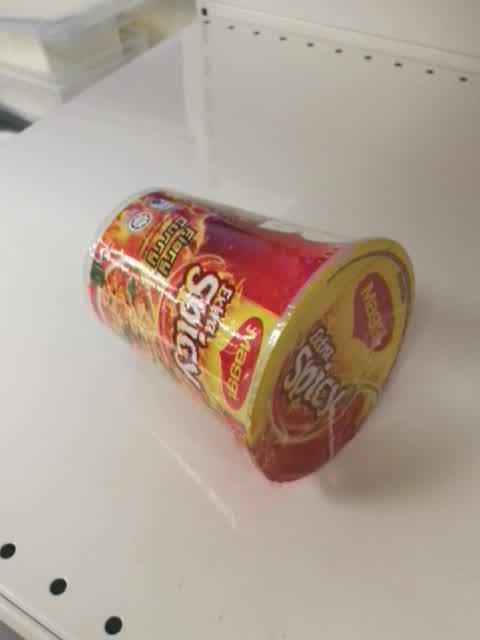maggi: (84, 187, 415, 485)
